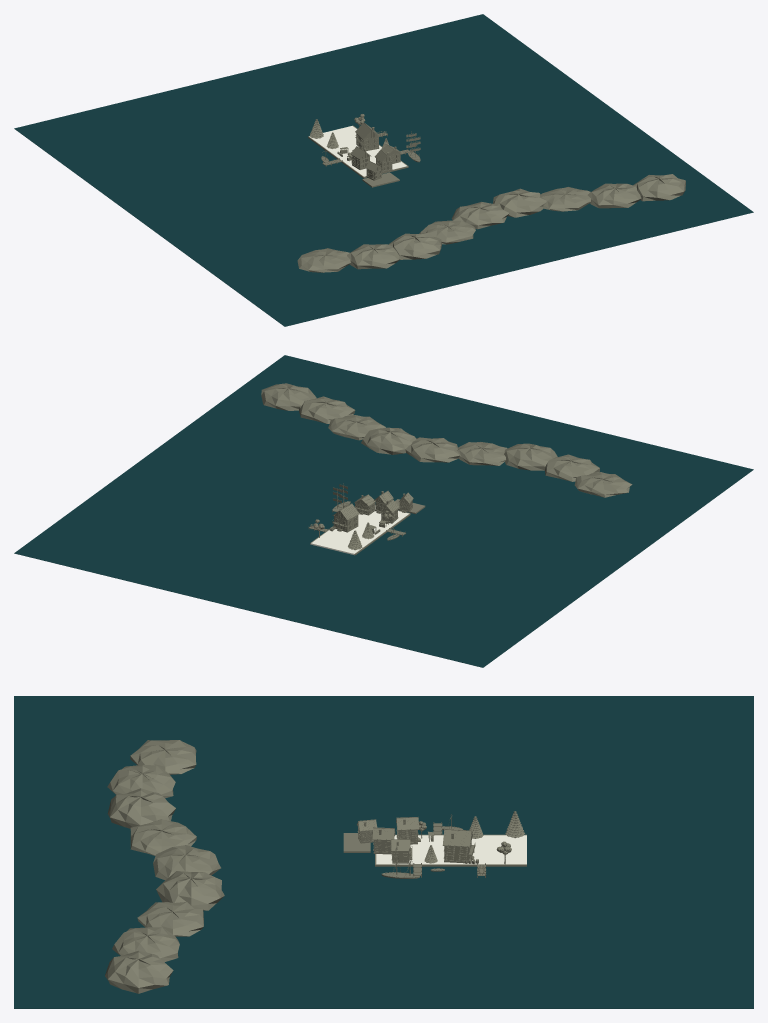
File: NordicHarborLayout.obj
3 renders of one model, top to bottom at view 1: azimuth 30°, elevation 25°; view 2: azimuth 150°, elevation 25°; view 3: azimuth 270°, elevation 25°, orthographic. The views are drawn at different scales.
Parts seen in each view (by area): view 1: Harbor_water_around_peninsula, grass, ground, wood, roof, stone, trim; view 2: Harbor_water_around_peninsula, grass, ground, wood, roof, trim, stone; view 3: Harbor_water_around_peninsula, grass, ground, wood, roof, stone, trim, leaf.
Part boxes in pixels (x1,y1,x2,y2): Harbor_water_around_peninsula: [14, 14, 753, 326]; grass: [297, 174, 685, 272]; ground: [309, 126, 406, 176]; wood: [316, 119, 420, 179]; roof: [351, 123, 400, 178]; stone: [308, 125, 408, 187]; trim: [321, 123, 420, 179]; Harbor_water_around_peninsula: [14, 355, 753, 667]; grass: [261, 383, 632, 497]; ground: [310, 505, 409, 555]; wood: [308, 483, 413, 550]; roof: [334, 491, 413, 529]; trim: [310, 491, 412, 539]; stone: [310, 491, 425, 555]; Harbor_water_around_peninsula: [14, 696, 753, 1008]; grass: [105, 740, 224, 993]; ground: [376, 835, 526, 864]; wood: [357, 811, 517, 878]; roof: [357, 817, 472, 861]; stone: [343, 818, 526, 866]; trim: [357, 817, 484, 877]; leaf: [424, 811, 524, 863].
Size of the model in its own units: 220 by 14.5 by 220.
